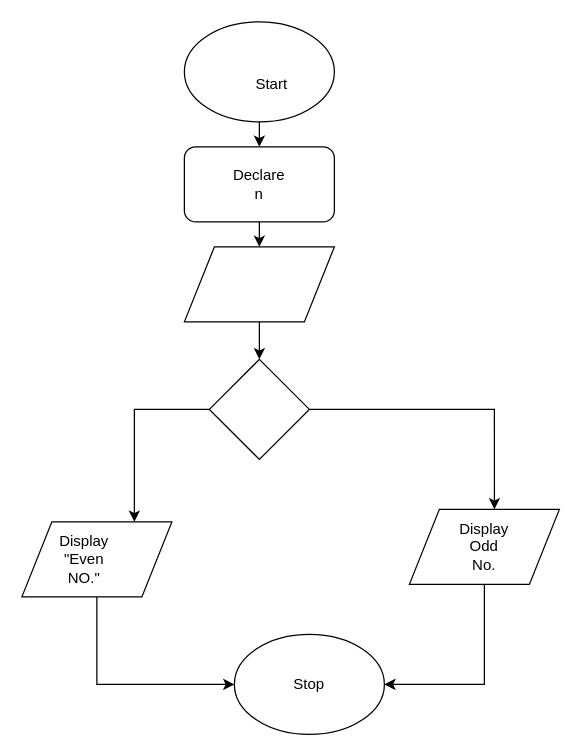
This 581x756 diagram has some shape labels left out. The shapes that lost their labels are listed below. From the top down, each one's centre as x and y in pixels, then its label:
At [258,284]: "Read n".
At [258,408]: "If n%2==0".
